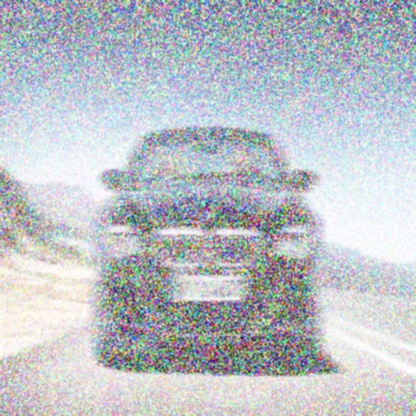Vehicle: (94, 129, 324, 379)
